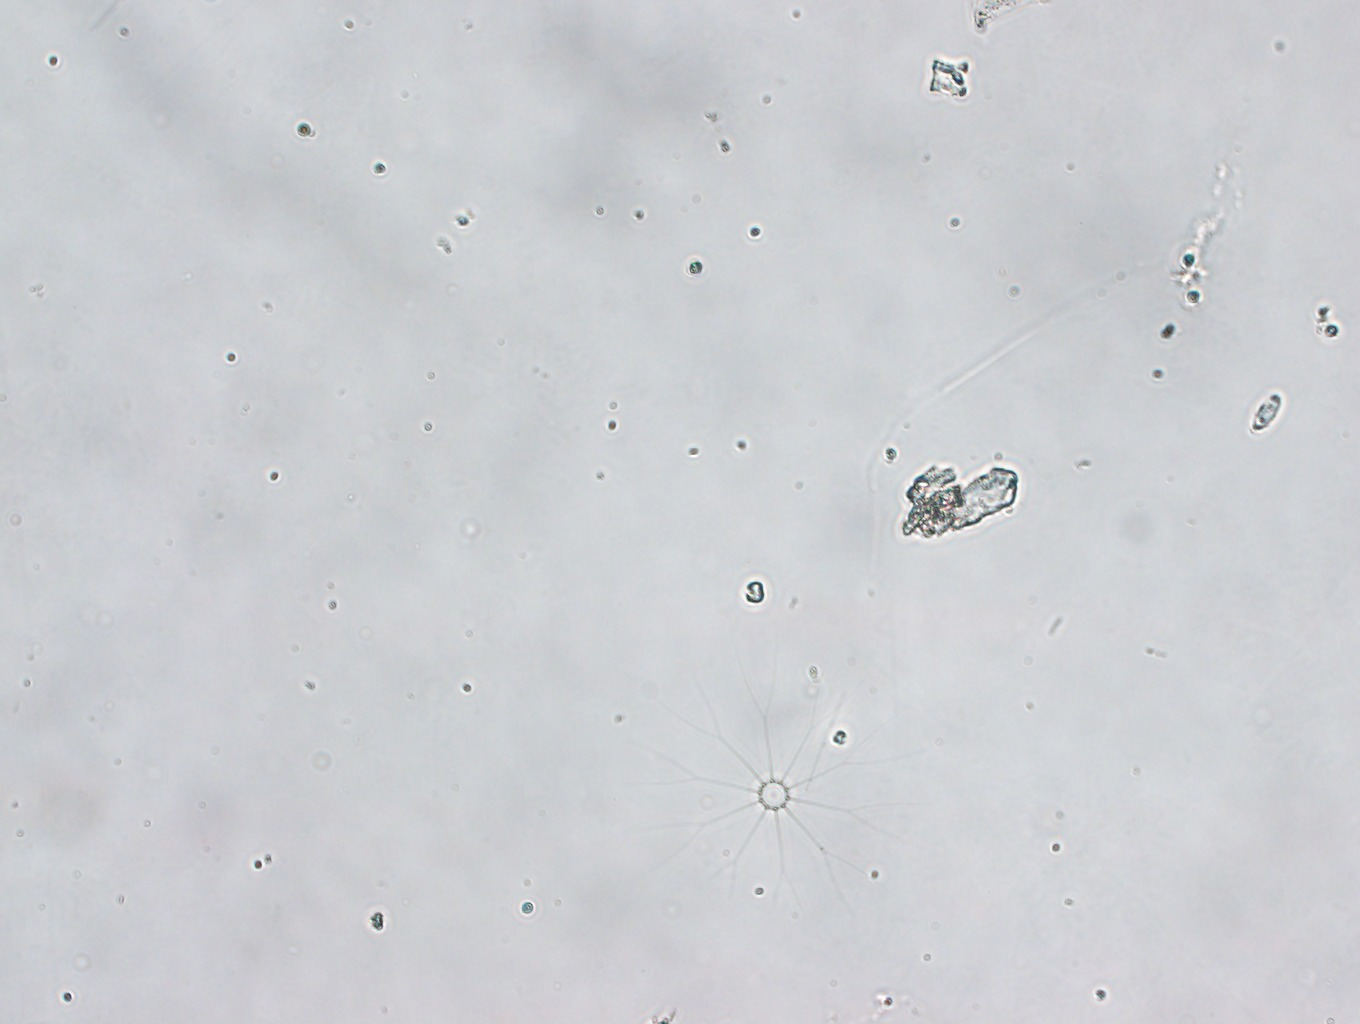bacteriastrum: (629, 639, 939, 935)
